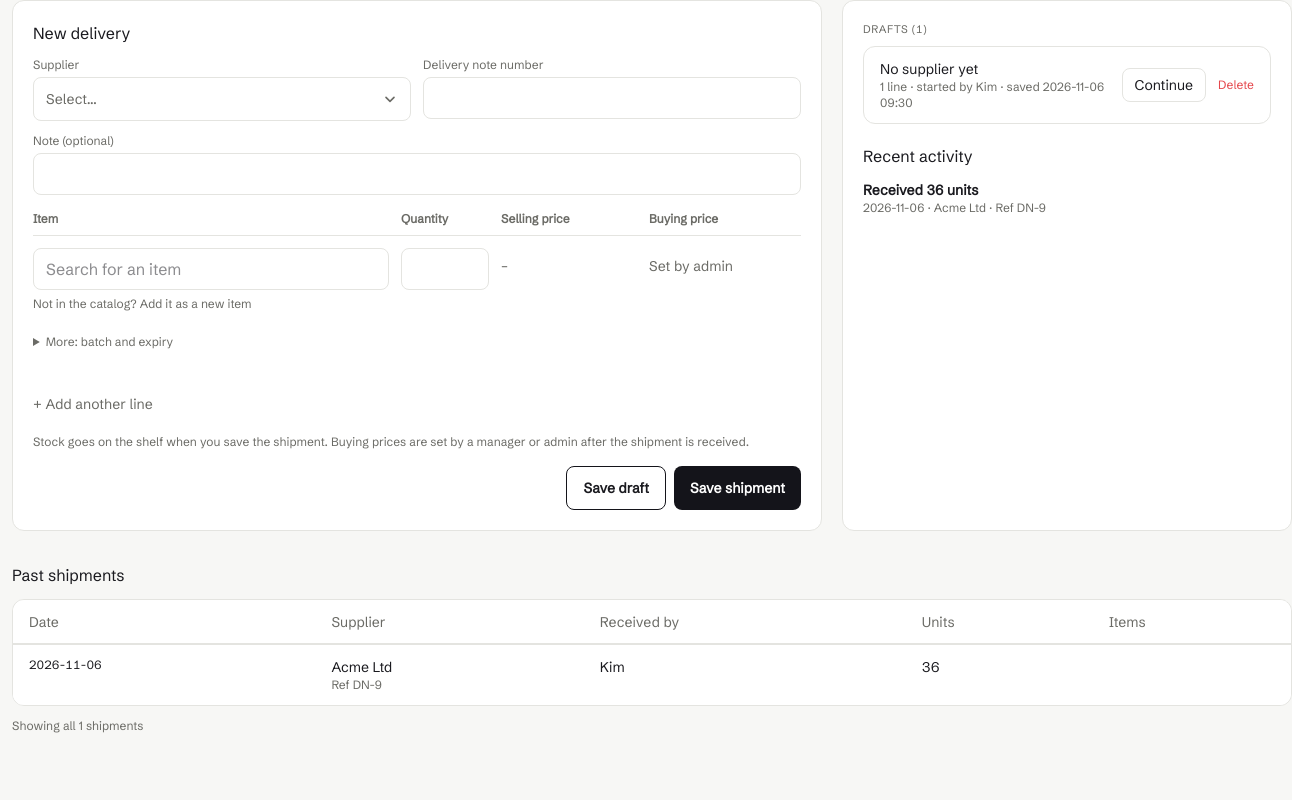
Test case: Receive, new layout: the delivery form › opens "More" by itself when a reopened draft line has a batch or expiry
Click the button "Continue" at (1164,84), box [1122, 68, 1206, 102]
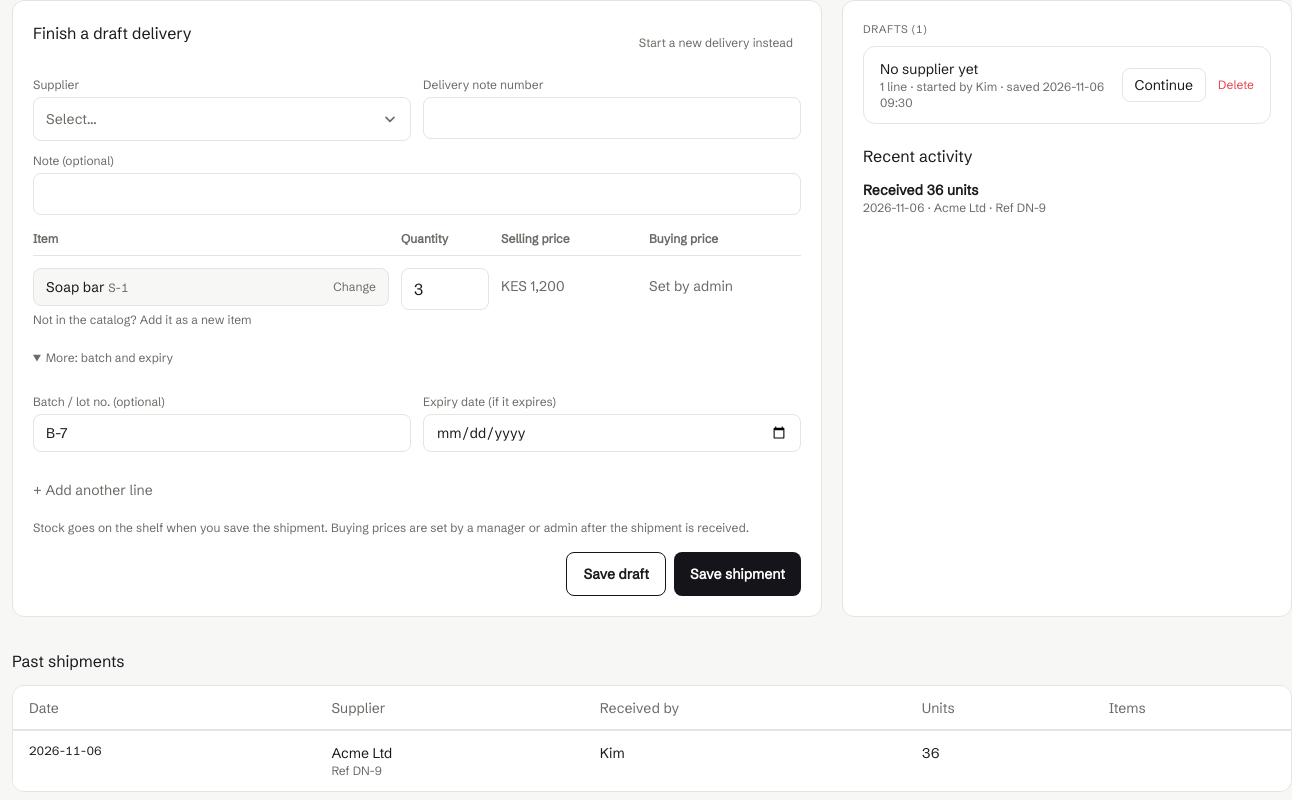
Result: the field labelled "Batch / lot no. (optional)" holds "B-7" at [33, 414, 411, 452]
Result: the text "KES 1,200" is shown at [501, 277, 565, 295]
